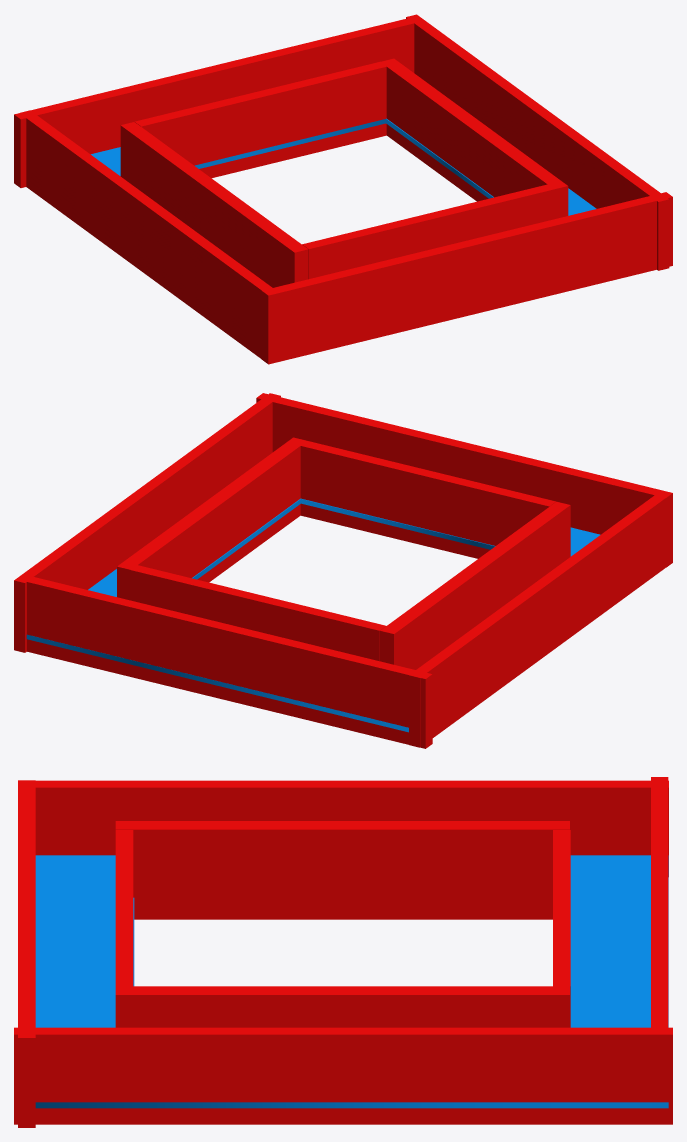
File: TestMap.FBX
3 renders of one model, top to bottom at view 1: azimuth 30°, elevation 25°; view 2: azimuth 150°, elevation 25°; view 3: azimuth 270°, elevation 25°, orthographic. The views are drawn at different scales.
Parts seen in each view (by area): view 1: Border, track; view 2: Border, track; view 3: Border, track.
Part boxes in pixels (<box>): Border: <box>14,14,672,364</box>; track: <box>91,118,596,215</box>; Border: <box>14,393,672,748</box>; track: <box>26,498,600,732</box>; Border: <box>14,777,672,1127</box>; track: <box>35,855,668,1108</box>.
Bounding box in the file's own units: 187 × 30 × 199.
